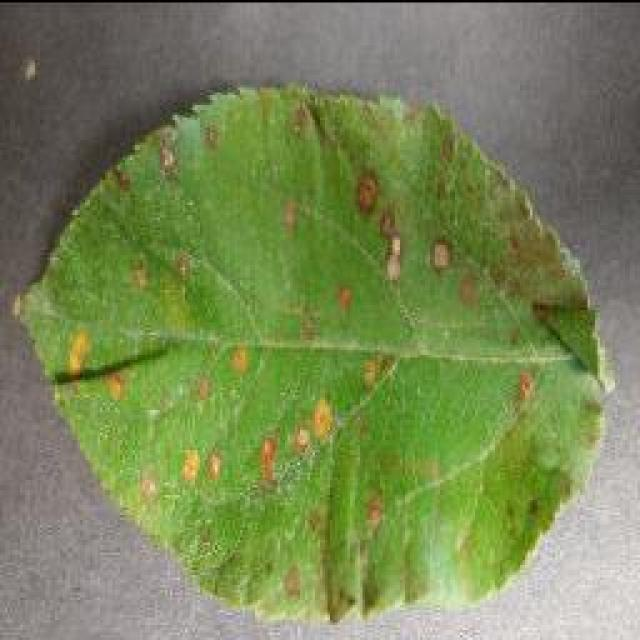apple cedar apple rust: (10, 80, 618, 625)
